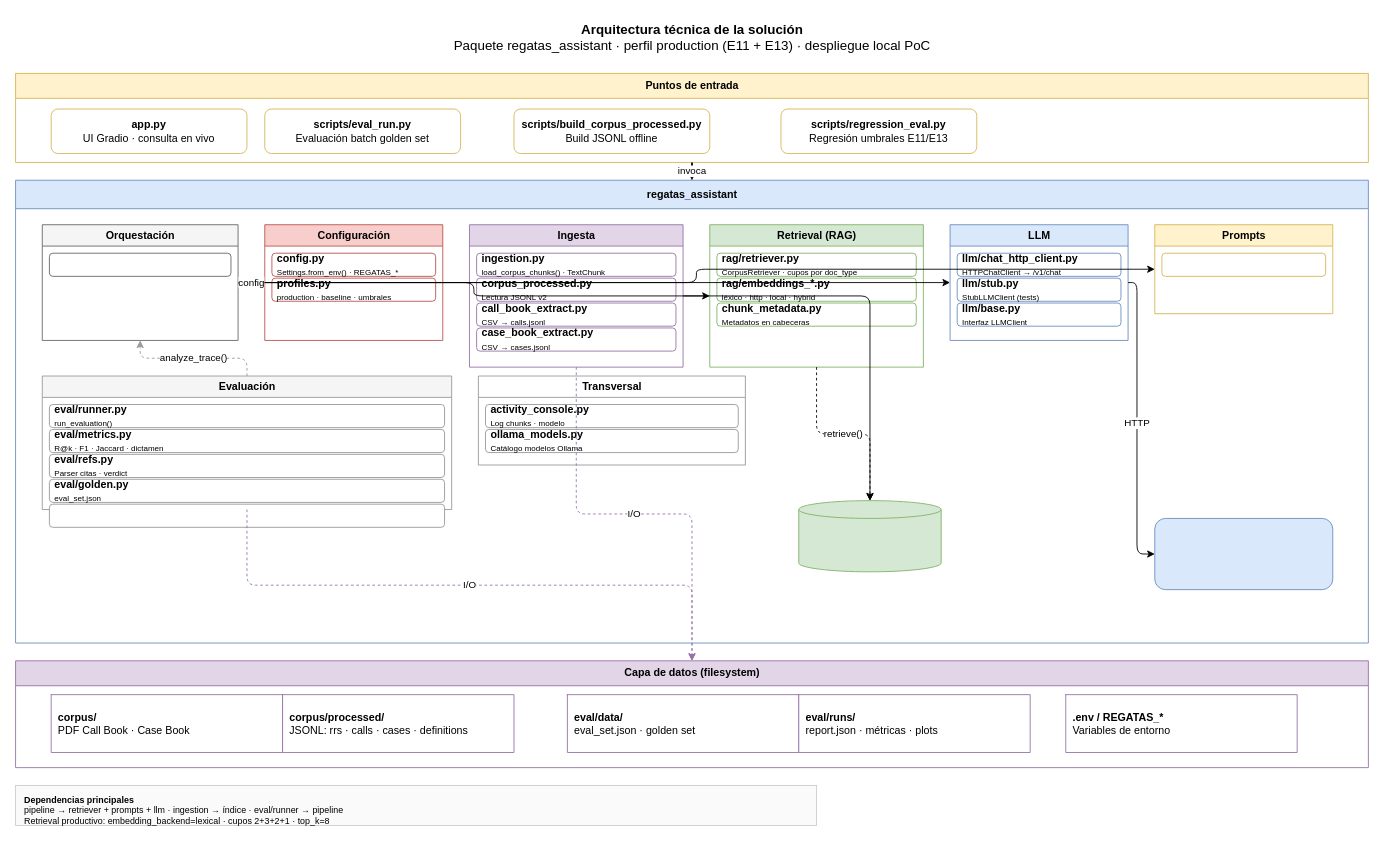
The diagram is 1384 pixels wide and 842 high, and some of its shapes have lost their labels. The centre of each missing label's shape, as x and y in pixels:
"eval/faithfulness.py LLM-as-judge (opcional)" belongs at point (247, 515).
"pipeline.py ProtestPipeline · analyze() · analyze_trace()" belongs at point (140, 264).
"prompts.py v3 ES · system + user · CoT" belongs at point (1243, 264).
"Servicio externo Ollama HTTP API /v1/chat qwen2.5:14b-instruct" belongs at point (1243, 554).
"Índice runtime list[TextChunk] en RAM (singleton pipeline)" belongs at point (869, 536).
